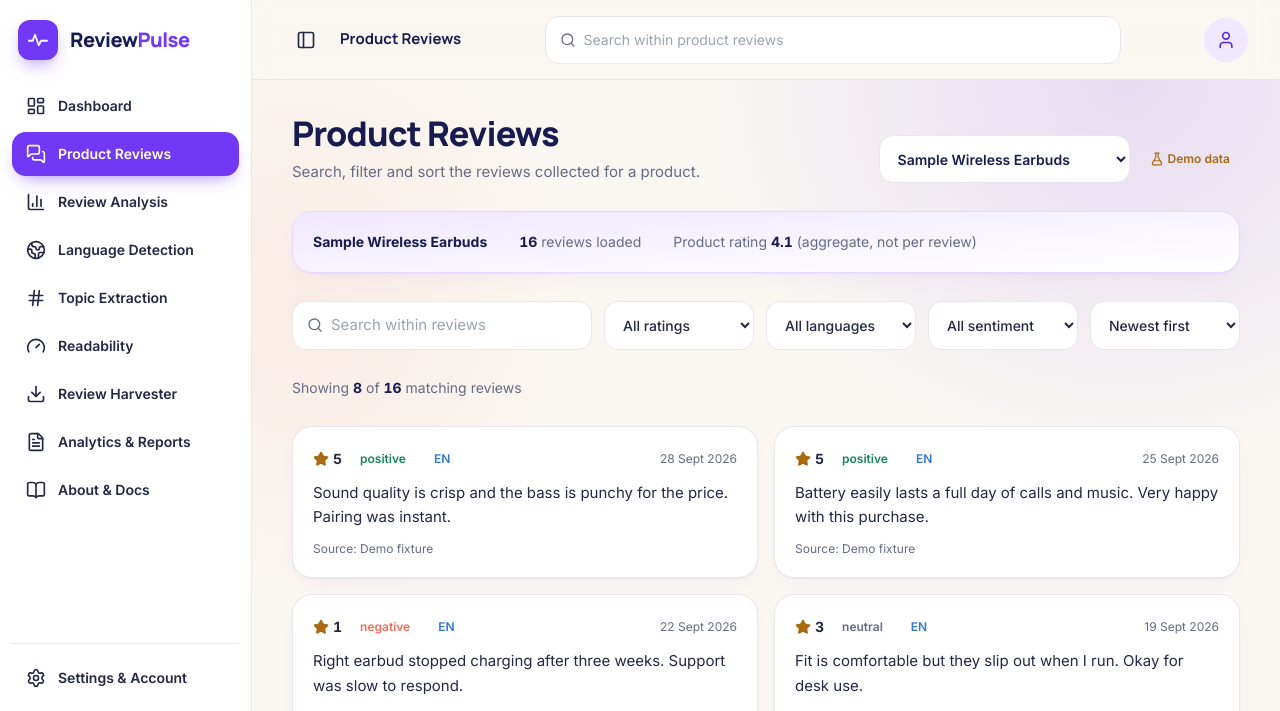
Test: data honesty › review search filters the list
Expected: the text "Showing 8 of 16 matching reviews" is shown, [292,378,522,396]
In the field labelled "Search within reviews": (454,325) [331,302,577,348], type "zzzz-no-match"
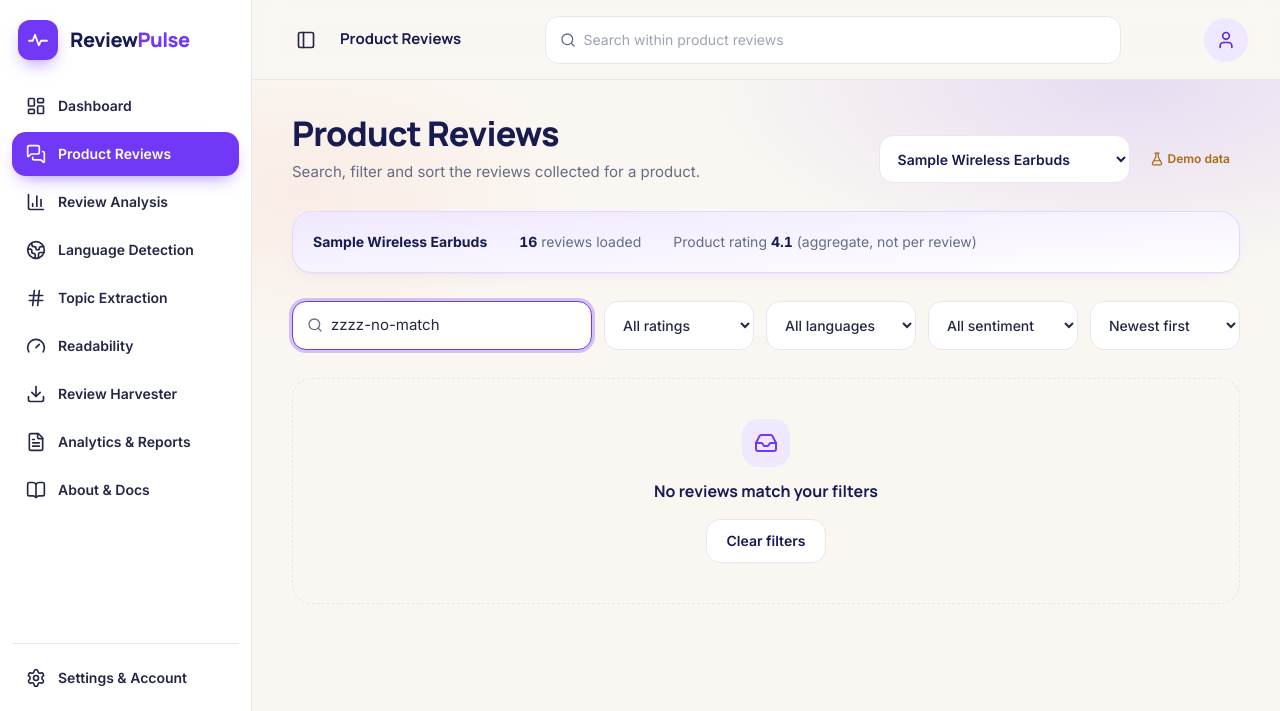
Expected: the heading "No reviews match your filters" is shown, [654,478,878,502]
